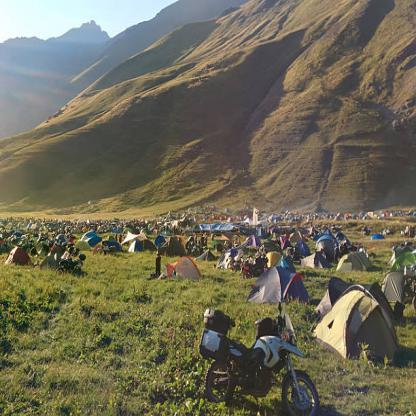Motorcycle: (192, 291, 321, 415)
